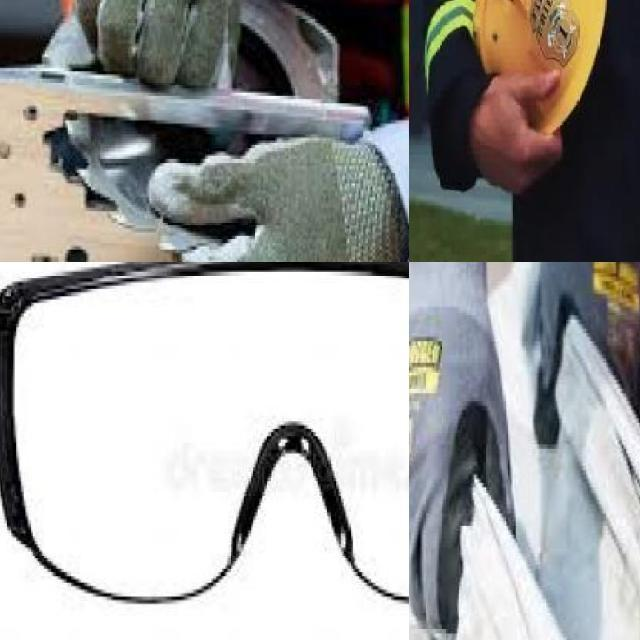apron: (409, 262, 517, 640), (163, 123, 402, 262), (529, 262, 640, 462), (72, 0, 252, 79)
